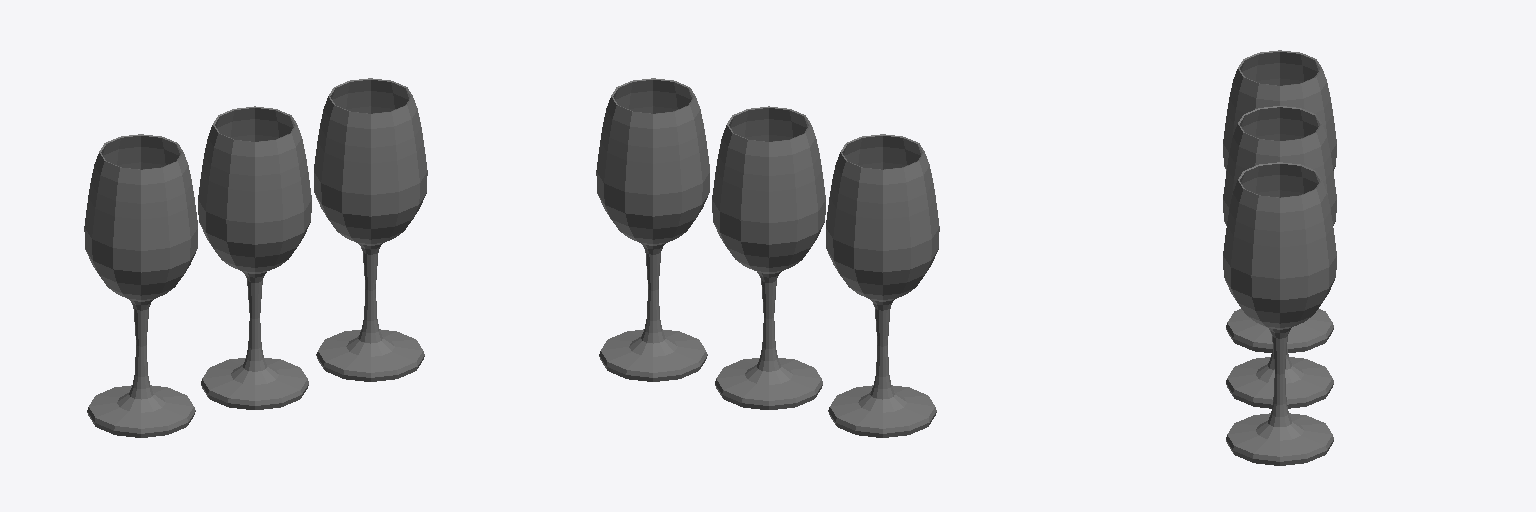
File: wine.obj
The picture shows the model from 3 angles: view 1: azimuth 30°, elevation 25°; view 2: azimuth 150°, elevation 25°; view 3: azimuth 270°, elevation 25°; orthographic projection.
Size of the model in its own units: 13.66 by 10.49 by 4.12.